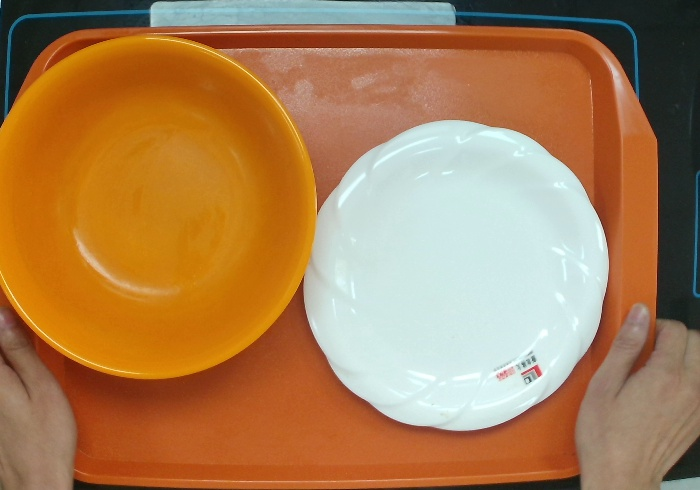ZNLD-Hua_Bian_Wan: (303, 118, 611, 435)
ZNLD-Ju_Se_Tang_Wan: (1, 32, 319, 379)
